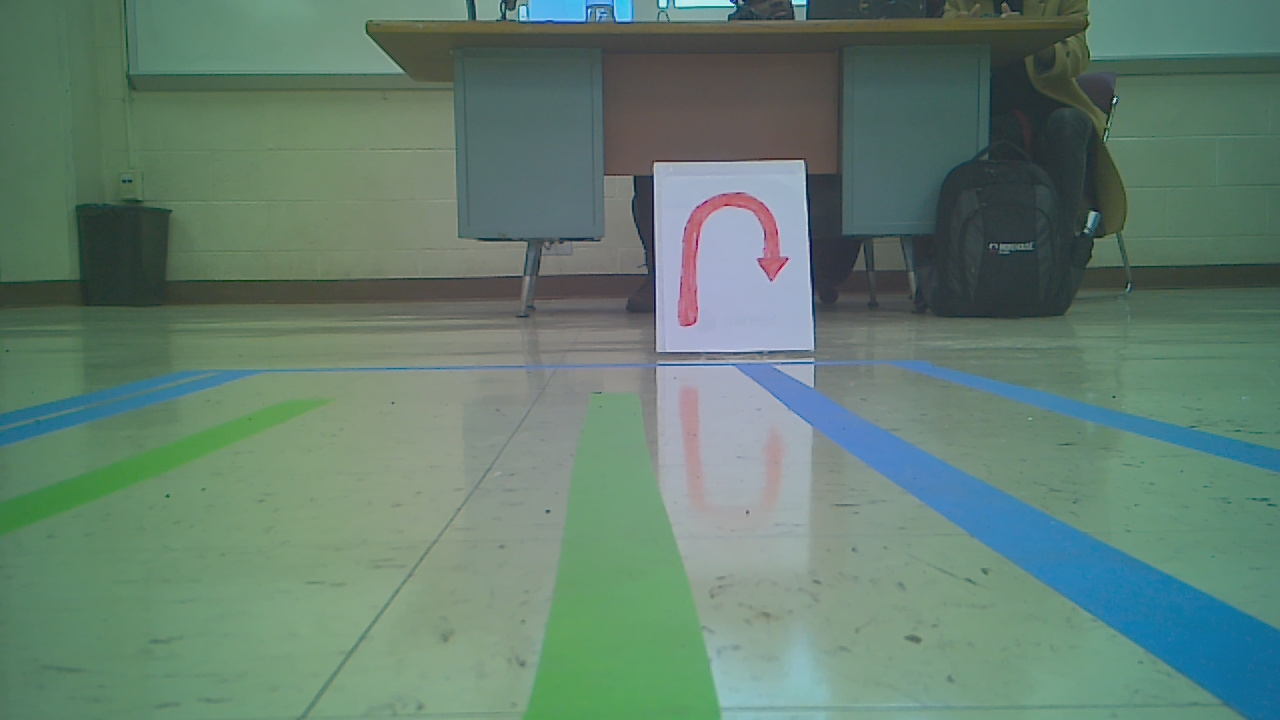greenline: (544, 384, 716, 712), (6, 395, 321, 545)
uturn: (670, 187, 793, 332)
